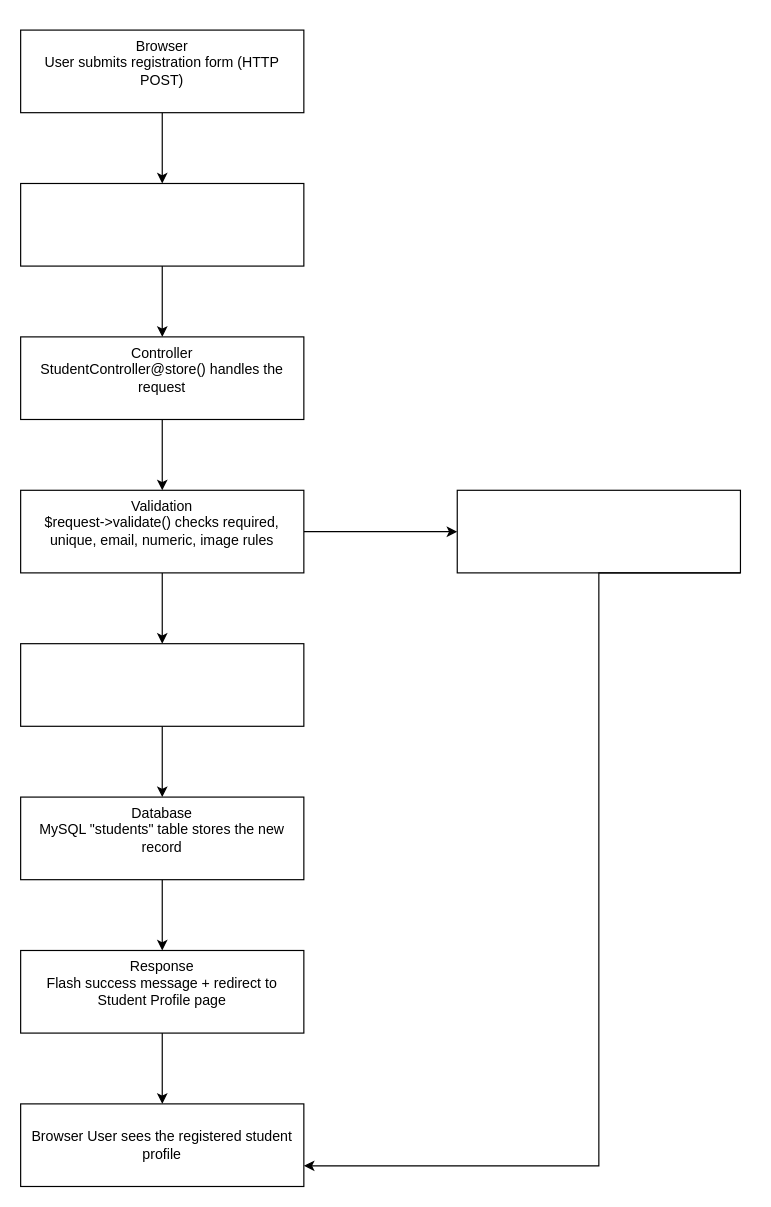
Some shapes in this 771 by 1207 pixel diagram are drawn without their labels. Each missing label, with the box of its shape:
Model Student model + Storage::put() saves the profile picture: (19, 643, 304, 726)
Redirect back with error messages: (456, 489, 740, 573)
Route routes/web.php matches POST /students: (19, 182, 304, 266)
